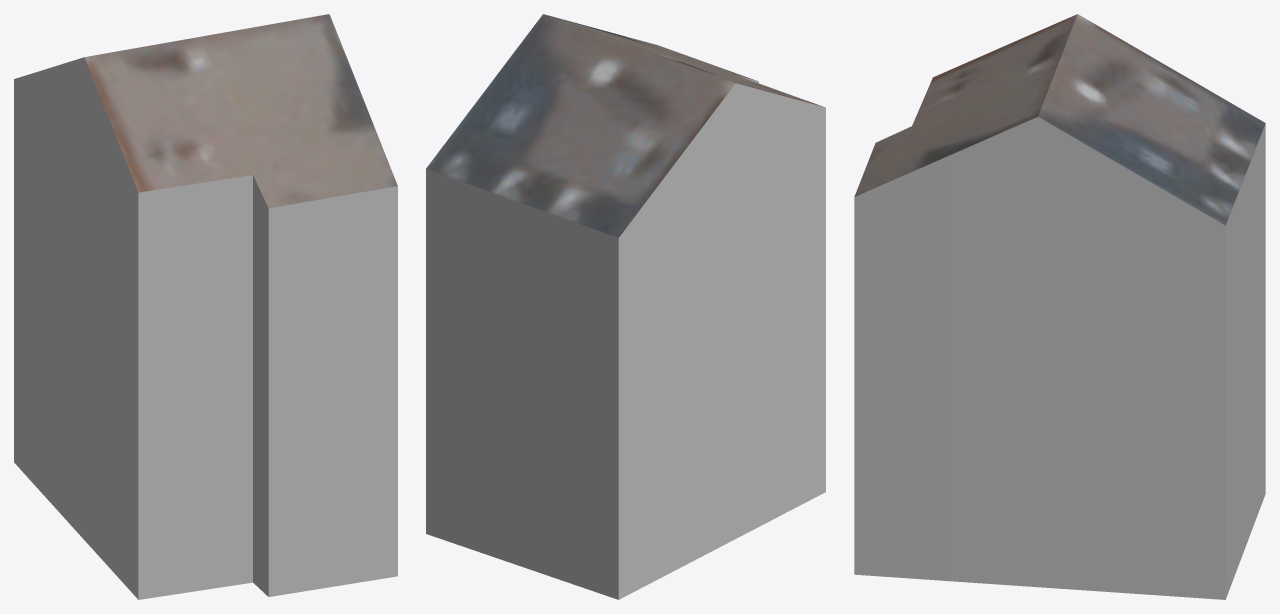
The model's file is DEBW_0010007TxbH.gltf.
3 views of the same model, side by side, from view 1: azimuth 30°, elevation 25°; view 2: azimuth 150°, elevation 25°; view 3: azimuth 270°, elevation 25° (orthographic). The views are drawn at different scales.
Visible parts, largest first — view 1: Z_UP; view 2: Z_UP; view 3: Z_UP.
Part boxes in pixels (x1,y1,x2,y2): Z_UP: (14, 14, 397, 599); Z_UP: (426, 14, 825, 599); Z_UP: (854, 14, 1265, 599).
Bounding box in the file's own units: 10.87 × 18.55 × 14.7.
Materials: 2 (1 with a texture image).
